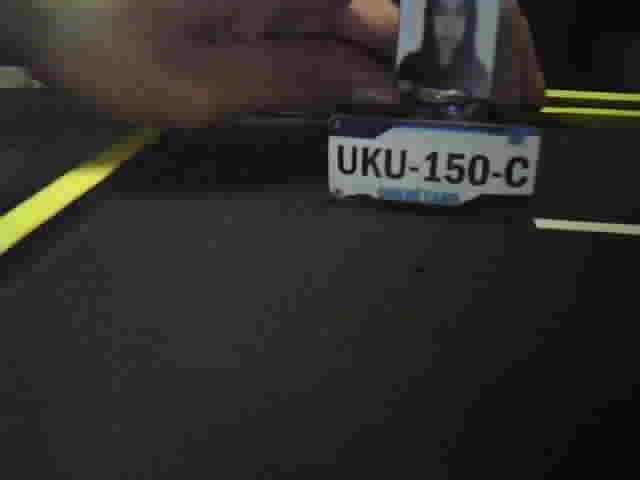PLACA: (325, 111, 545, 213)
ROSTRO: (398, 1, 491, 98)
